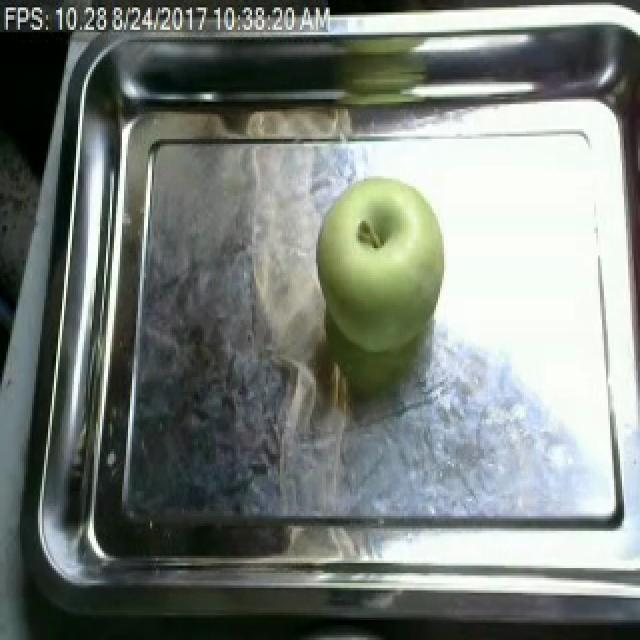50-_ripeness: (305, 174, 458, 365)
